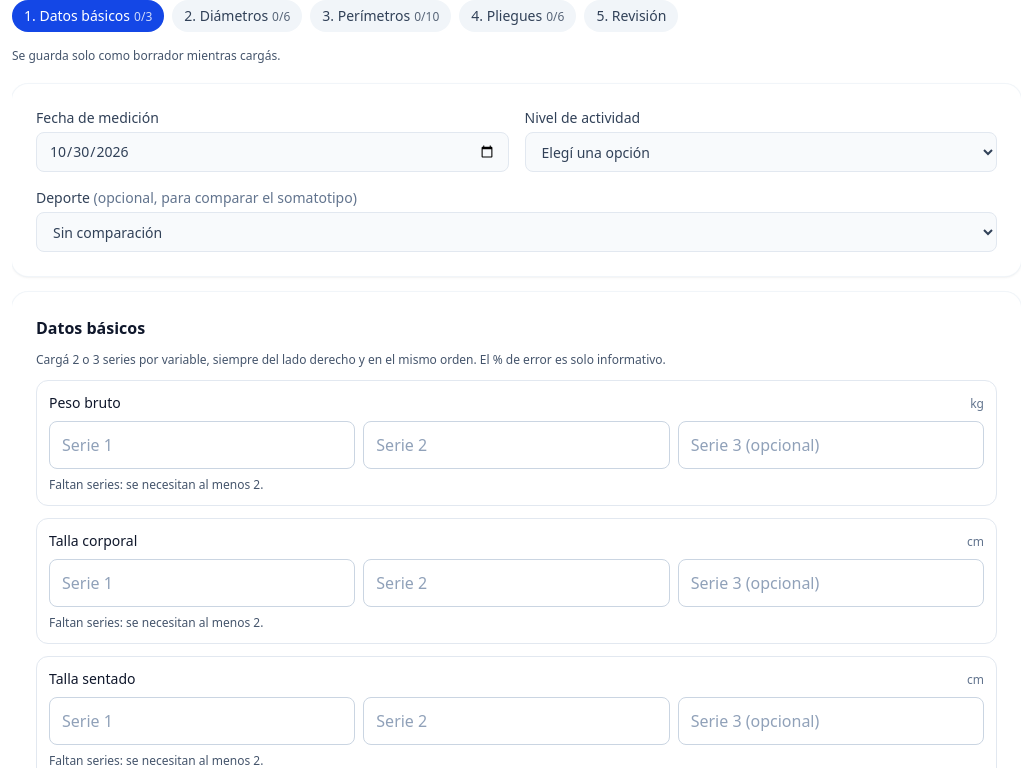
Test: instrumentos y responsable › en una medición nueva precarga "Mis instrumentos" y elige al usuario como quien midió
Click the button "5. Revisión": [631, 16] box [584,0,678,32]
(page scrolled)
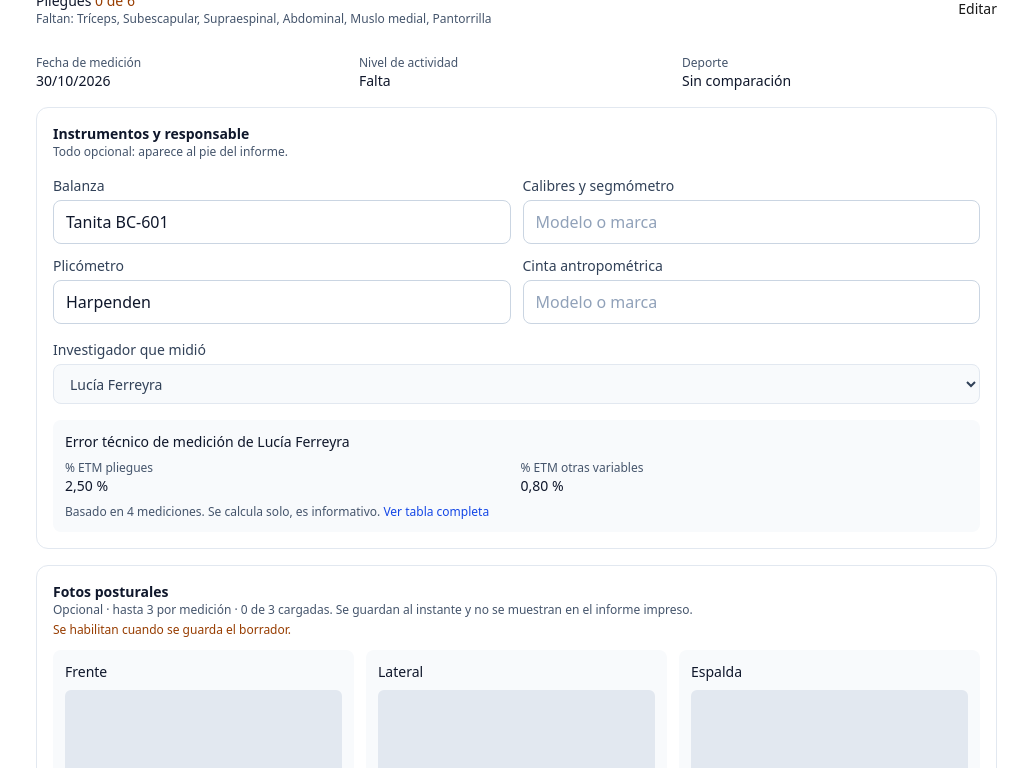
Now the heading "Instrumentos y responsable" is shown, box [53,124,249,143]
Now the text "Todo opcional: aparece al pie del informe." is shown, box [53,143,288,160]
Now the field labelled "Balanza" holds "Tanita BC-601", box [53,200,510,244]
